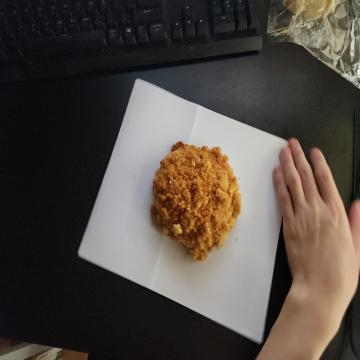soboru_bread: (156, 141, 242, 268)
